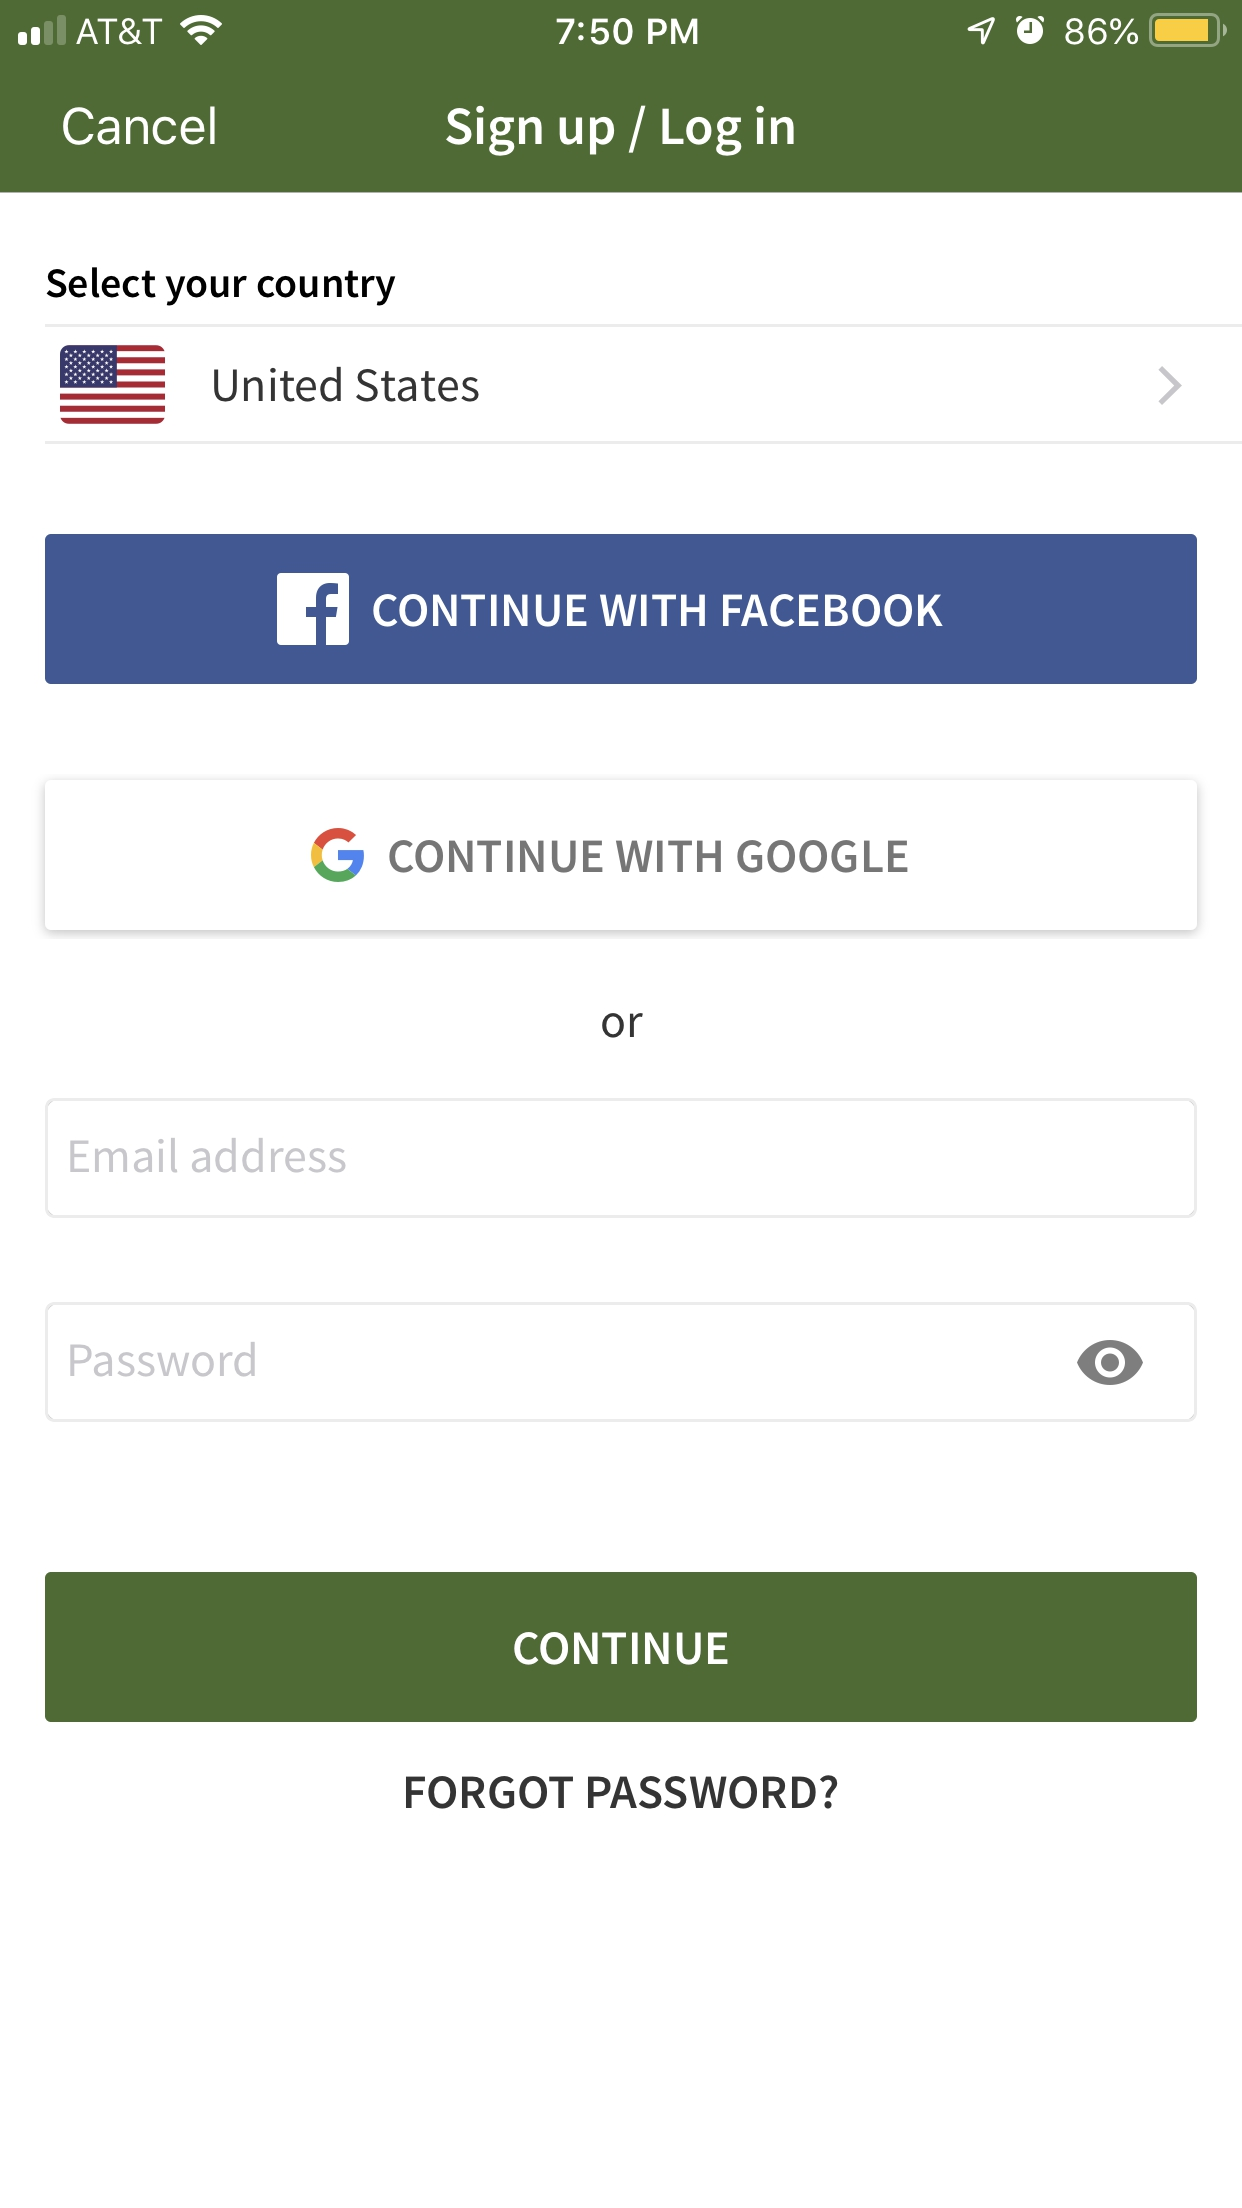EditText: (45, 1098, 1197, 1219), (45, 1303, 1197, 1422)
Icon: (1077, 1341, 1143, 1386), (1159, 365, 1183, 406)
Image: (61, 346, 167, 426)
Text: (446, 103, 795, 156), (406, 1774, 839, 1811), (47, 267, 397, 308), (214, 365, 481, 403), (70, 1137, 347, 1174), (70, 1342, 256, 1378), (64, 106, 217, 147), (604, 1013, 645, 1039)
TextButton: (45, 779, 1198, 931), (45, 534, 1197, 685), (45, 1573, 1197, 1723)
UpperTaskBar: (2, 2, 1242, 49)
